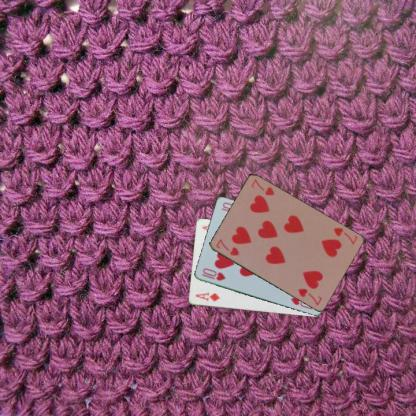10h: (199, 266, 226, 282)
7h: (213, 236, 240, 257), (331, 224, 358, 245)
Ad: (192, 289, 221, 303)
